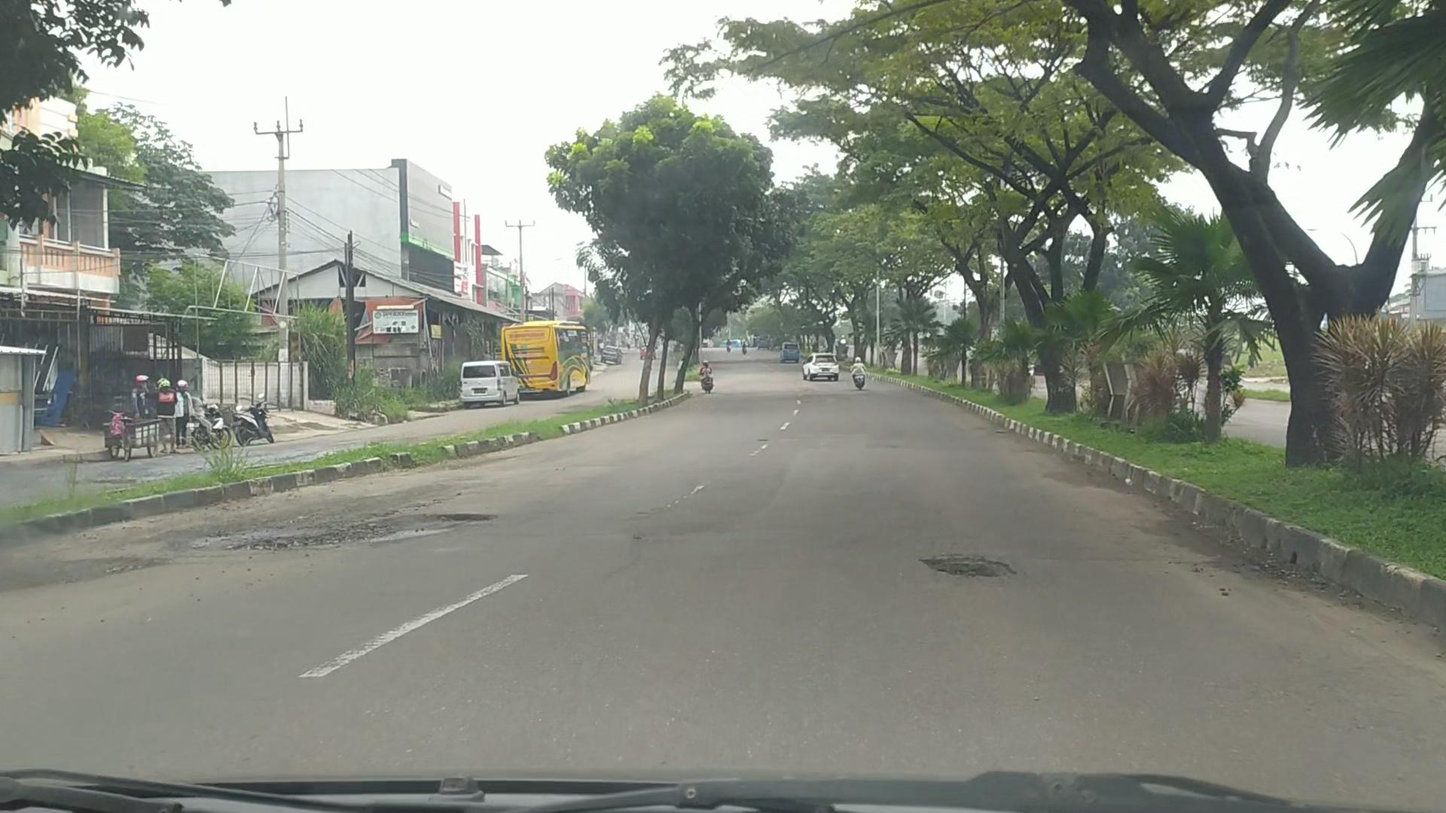pothole: (217, 515, 493, 554), (916, 551, 1005, 578)
